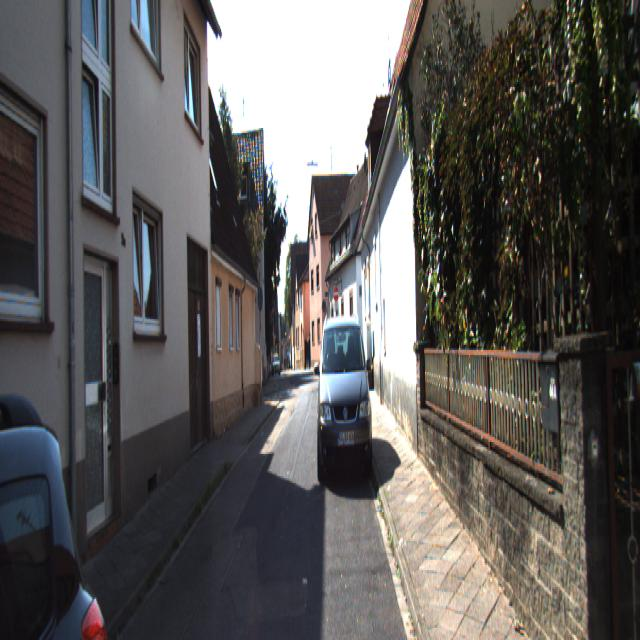Car: (317, 310, 375, 487)
